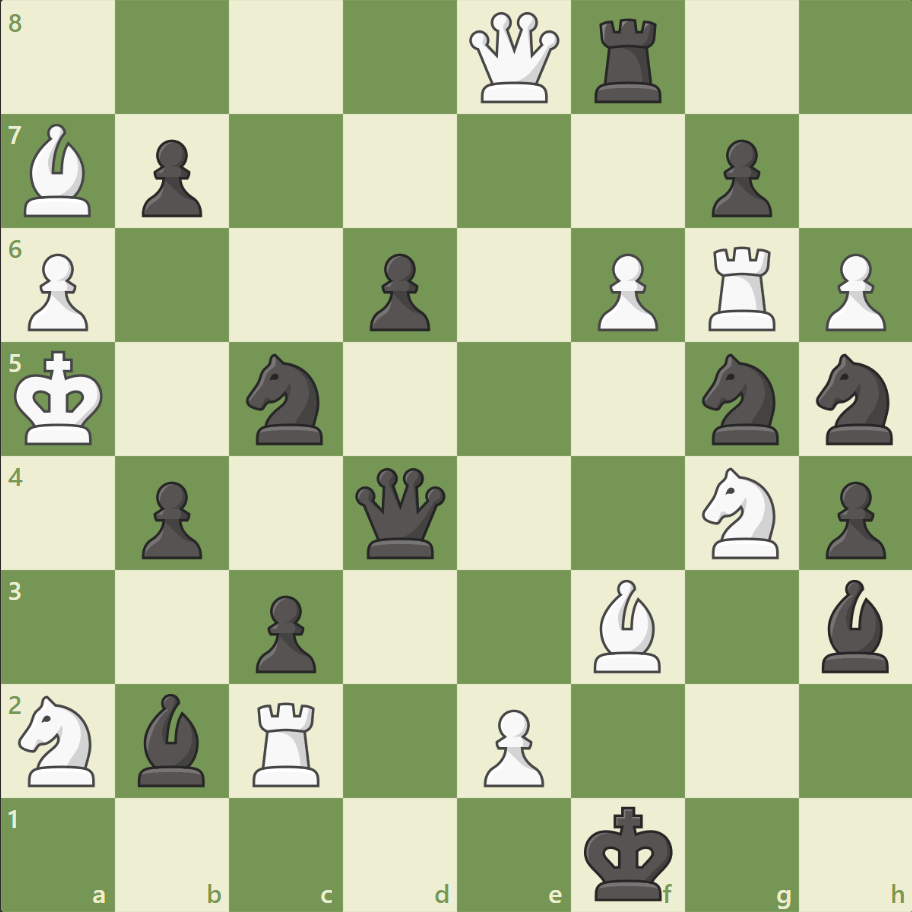B: (17, 120, 101, 222), (585, 574, 669, 676)
K: (11, 344, 111, 452)
N: (692, 461, 789, 564), (11, 688, 108, 791)
P: (20, 246, 95, 337), (474, 700, 549, 791), (588, 246, 662, 337), (815, 246, 889, 337)
Q: (464, 9, 563, 108)
R: (700, 239, 783, 336), (246, 693, 329, 790)
b: (131, 687, 215, 790), (812, 574, 896, 676)
k: (579, 798, 679, 906)
n: (238, 348, 335, 450), (692, 348, 789, 450), (806, 348, 903, 450)
p: (133, 132, 208, 223), (701, 132, 776, 223), (133, 473, 208, 564), (247, 586, 322, 677), (361, 246, 435, 337), (815, 473, 889, 564)
q: (351, 463, 450, 562)
r: (587, 12, 670, 109)
